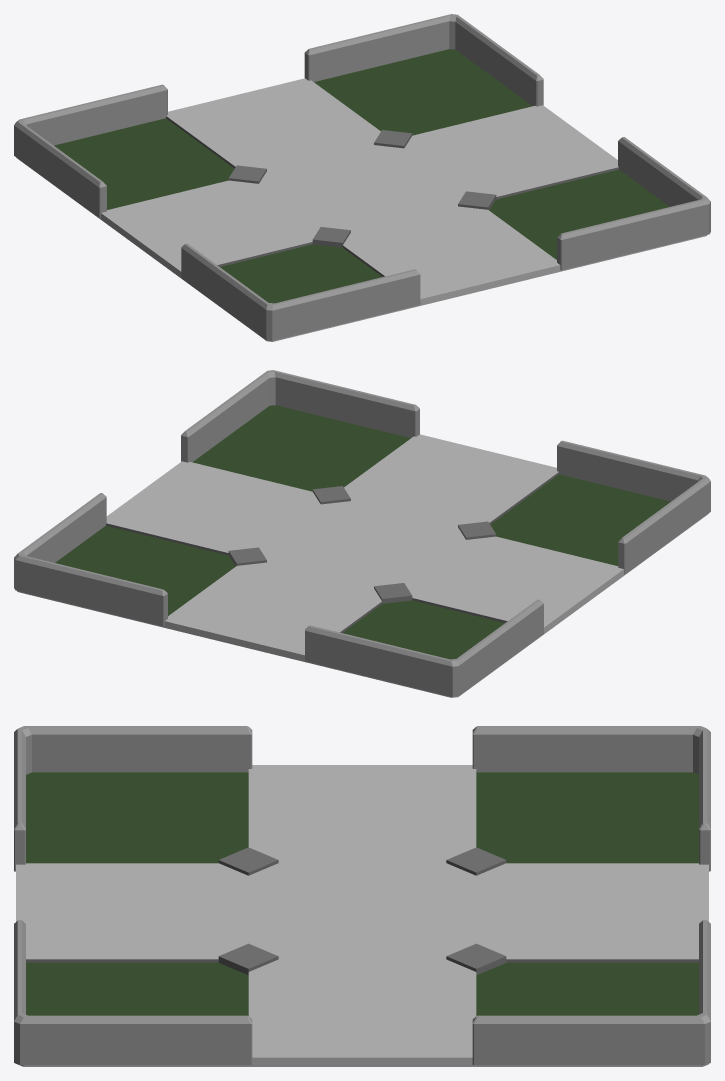
File: Park_3.fbx
3 renders of one model, top to bottom at view 1: azimuth 30°, elevation 25°; view 2: azimuth 150°, elevation 25°; view 3: azimuth 270°, elevation 25°, orthographic. The views are drawn at different scales.
Parts seen in each view (by area): view 1: Park_3; view 2: Park_3; view 3: Park_3.
Boxes of the visible parts, x1,y1,x2,y2 form: Park_3: [14, 14, 710, 341]; Park_3: [14, 370, 710, 697]; Park_3: [14, 726, 710, 1066].
Bounding box in the file's own units: 2012 × 155 × 2012.
